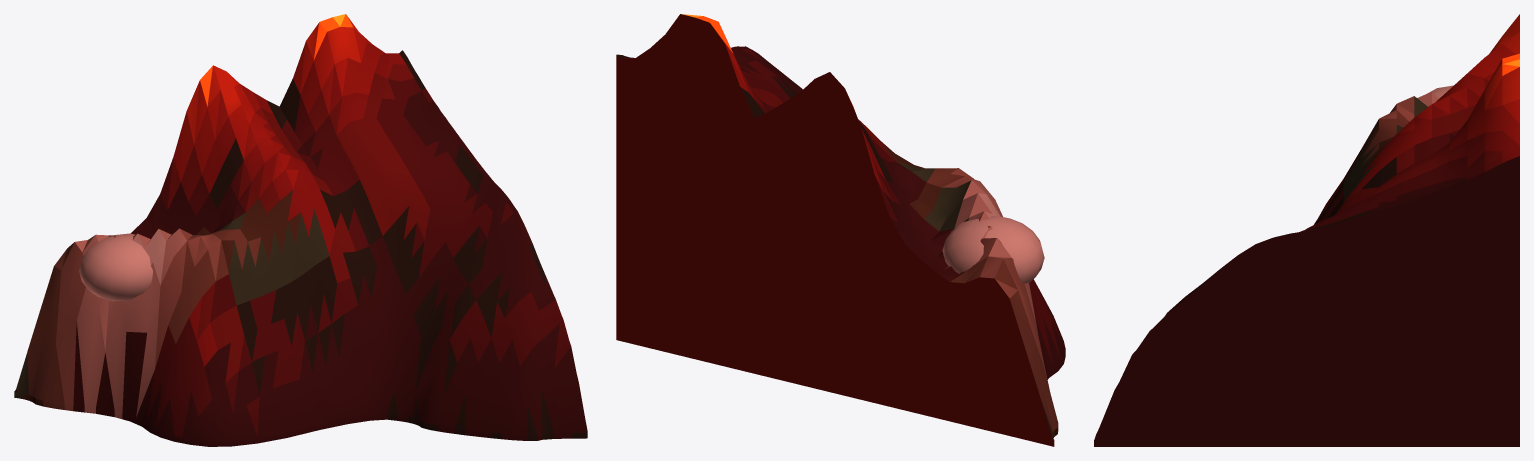
The model's file is lava_grub_r_b1.glb.
3 views of the same model, side by side, from view 1: azimuth 30°, elevation 25°; view 2: azimuth 150°, elevation 25°; view 3: azimuth 270°, elevation 25° (orthographic). The views are drawn at different scales.
Visible parts, largest first — view 1: lava_grub_r_b1_grub_body, lava_grub_r_b1_grub_knob9; view 2: lava_grub_r_b1_grub_body, lava_grub_r_b1_grub_knob9; view 3: lava_grub_r_b1_grub_body.
Boxes of the visible parts, left/top/right/bottom form: lava_grub_r_b1_grub_body: left=14, top=14, right=587, bottom=446; lava_grub_r_b1_grub_knob9: left=79, top=233, right=152, bottom=301; lava_grub_r_b1_grub_body: left=616, top=14, right=1065, bottom=446; lava_grub_r_b1_grub_knob9: left=942, top=216, right=1044, bottom=283; lava_grub_r_b1_grub_body: left=1094, top=14, right=1519, bottom=446.
Bounding box in the file's own units: 20.48 × 15.26 × 16.9.
